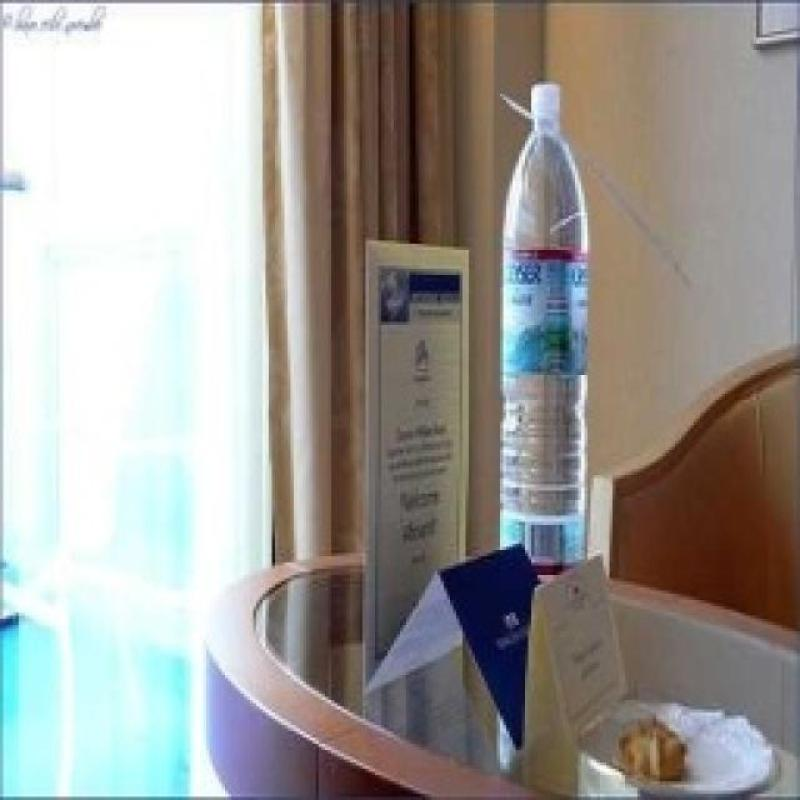botella: (498, 75, 592, 585)
